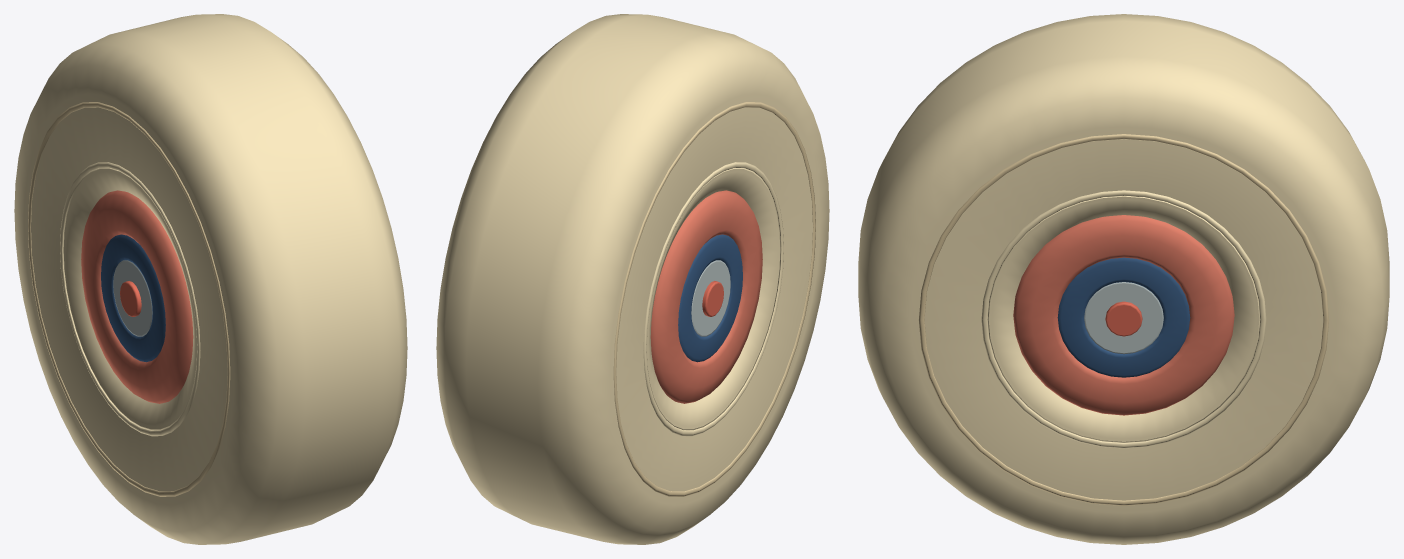
Rendered from skate.glb.
The picture shows the model from 3 angles, left to right: view 1: azimuth 30°, elevation 25°; view 2: azimuth 150°, elevation 25°; view 3: azimuth 270°, elevation 25°; orthographic projection.
Visible parts, largest first — view 1: skate_Skate Cream Polyurethane, skate_Skate Coral Bearing Seat, skate_Skate Cobalt Bearing Seal, skate_Skate Molded Sidewall, skate_Skate Brushed Hub, skate_PlayerColor; view 2: skate_Skate Cream Polyurethane, skate_Skate Coral Bearing Seat, skate_Skate Cobalt Bearing Seal, skate_Skate Molded Sidewall, skate_Skate Brushed Hub, skate_PlayerColor; view 3: skate_Skate Cream Polyurethane, skate_Skate Coral Bearing Seat, skate_Skate Cobalt Bearing Seal, skate_Skate Molded Sidewall, skate_Skate Brushed Hub, skate_PlayerColor.
Part boxes in pixels (x1=…): skate_Skate Cream Polyurethane: x1=14, y1=14, x2=407, y2=544; skate_Skate Coral Bearing Seat: x1=81, y1=190, x2=193, y2=403; skate_Skate Cobalt Bearing Seal: x1=101, y1=234, x2=165, y2=362; skate_Skate Molded Sidewall: x1=28, y1=102, x2=230, y2=496; skate_Skate Brushed Hub: x1=113, y1=260, x2=152, y2=336; skate_PlayerColor: x1=120, y1=281, x2=141, y2=316; skate_Skate Cream Polyurethane: x1=436, y1=14, x2=829, y2=544; skate_Skate Coral Bearing Seat: x1=650, y1=190, x2=762, y2=403; skate_Skate Cobalt Bearing Seal: x1=678, y1=234, x2=742, y2=362; skate_Skate Molded Sidewall: x1=613, y1=102, x2=815, y2=496; skate_Skate Brushed Hub: x1=691, y1=260, x2=730, y2=336; skate_PlayerColor: x1=702, y1=281, x2=723, y2=316; skate_Skate Cream Polyurethane: x1=858, y1=14, x2=1389, y2=544; skate_Skate Coral Bearing Seat: x1=1013, y1=215, x2=1234, y2=415; skate_Skate Cobalt Bearing Seal: x1=1057, y1=257, x2=1190, y2=377; skate_Skate Molded Sidewall: x1=919, y1=134, x2=1328, y2=505; skate_Skate Brushed Hub: x1=1084, y1=282, x2=1163, y2=354; skate_PlayerColor: x1=1105, y1=301, x2=1142, y2=336.
Bounding box in the file's own units: 0.24 × 0.66 × 0.66.
